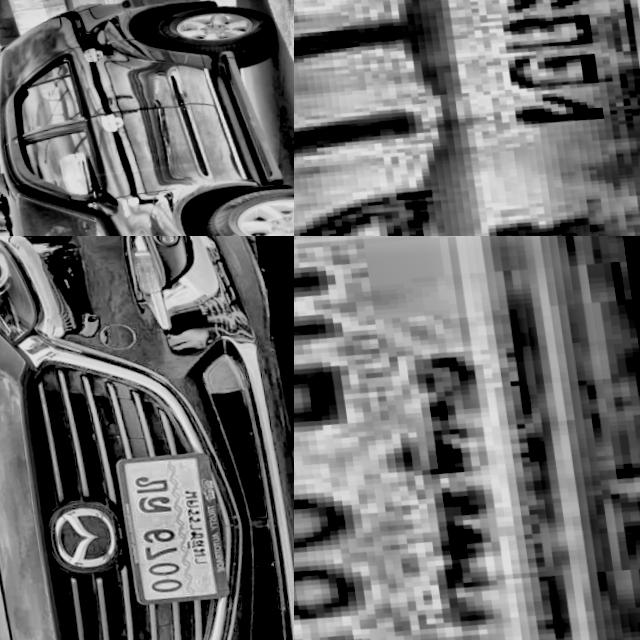license-plate: (294, 236, 629, 640), (294, 0, 640, 236), (110, 442, 230, 605)
